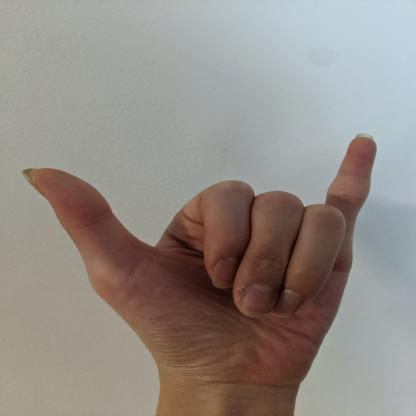Y: (18, 131, 381, 380)
